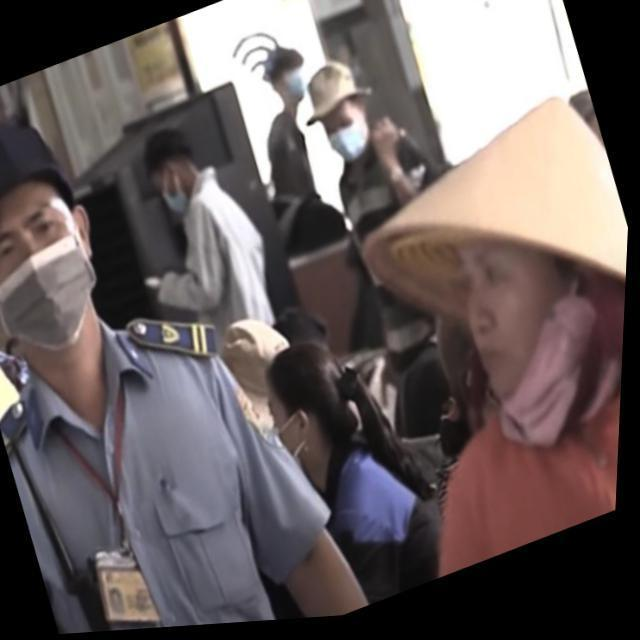hairnet: (448, 230, 621, 466)
